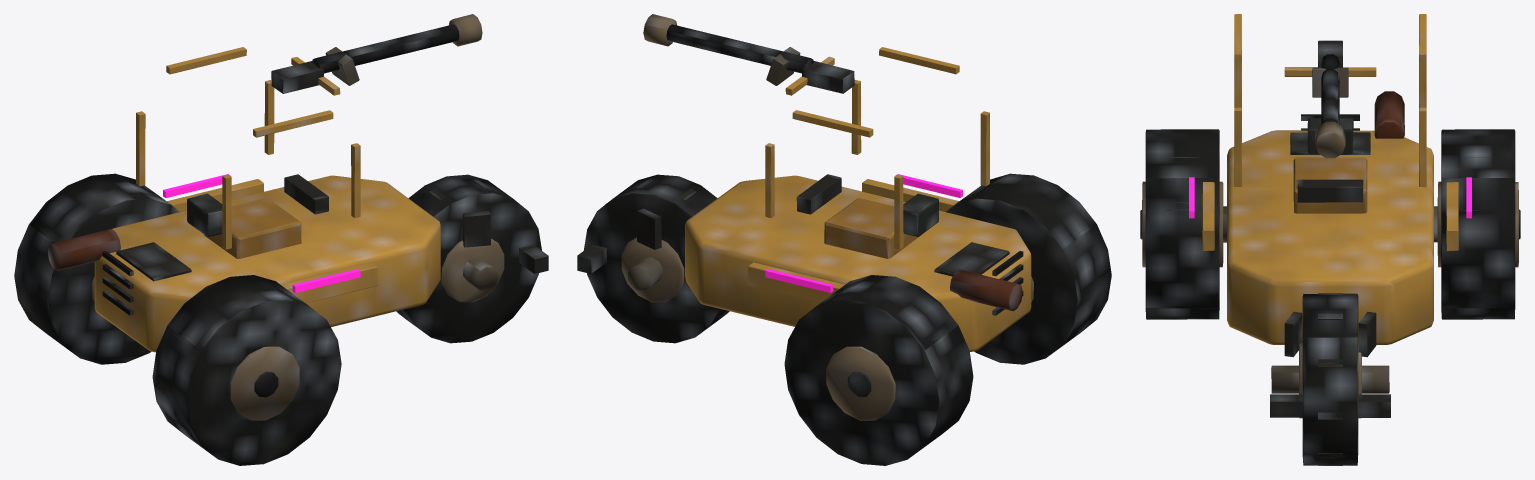
The model's file is trike.glb.
3 renders of one model, left to right at view 1: azimuth 30°, elevation 25°; view 2: azimuth 150°, elevation 25°; view 3: azimuth 270°, elevation 25°, orthographic. The views are drawn at different scales.
Parts seen in each view (by area): view 1: Sandwar3D; view 2: Sandwar3D; view 3: Sandwar3D.
Boxes of the visible parts, x1,y1,x2,y2 form: Sandwar3D: [14, 14, 548, 465]; Sandwar3D: [577, 14, 1111, 465]; Sandwar3D: [1140, 14, 1520, 465].
Size of the model in its own units: 1.49 by 0.9985 by 1.03.
Materials: 10 (9 with a texture image).
